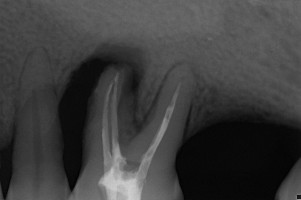Dental Caries: (85, 39, 149, 112), (131, 62, 186, 133)
